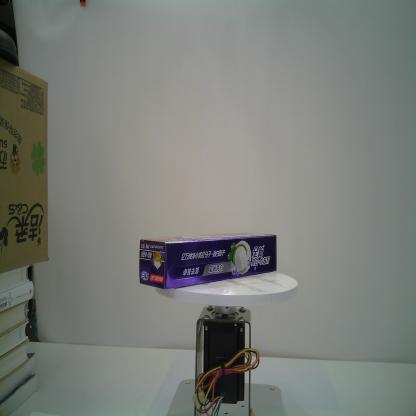Personal Hygiene: (138, 225, 279, 291)
